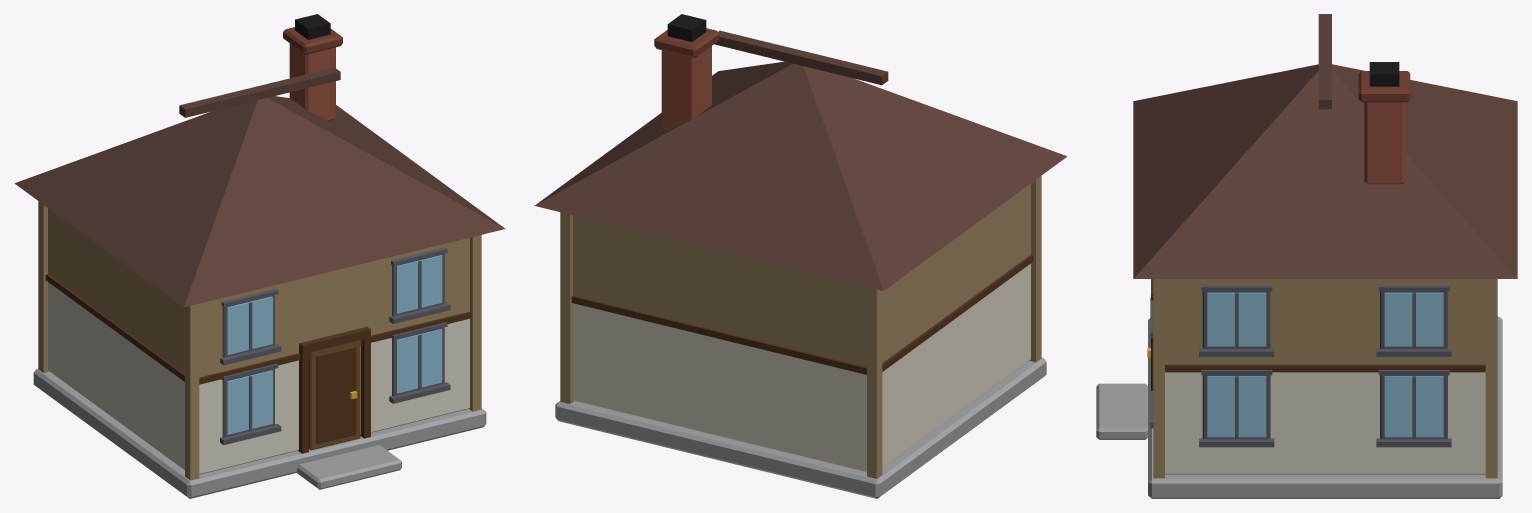
File: bld_house.glb
3 views of the same model, side by side, from view 1: azimuth 30°, elevation 25°; view 2: azimuth 150°, elevation 25°; view 3: azimuth 270°, elevation 25° (orthographic). The views are drawn at different scales.
Visible parts, largest first — view 1: bld_house; view 2: bld_house; view 3: bld_house.
Part boxes in pixels (x1,y1,x2,y2): bld_house: [14, 14, 505, 498]; bld_house: [534, 14, 1067, 498]; bld_house: [1096, 14, 1517, 498].
Size of the model in its own units: 5.7 by 5.88 by 5.7.
